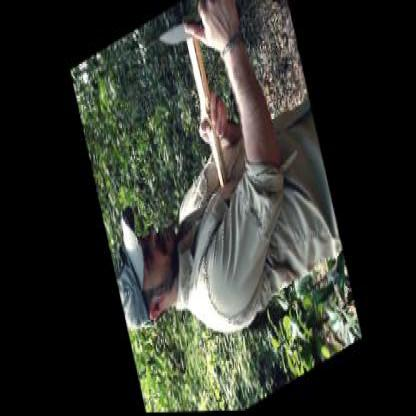knife: (150, 0, 230, 71)
